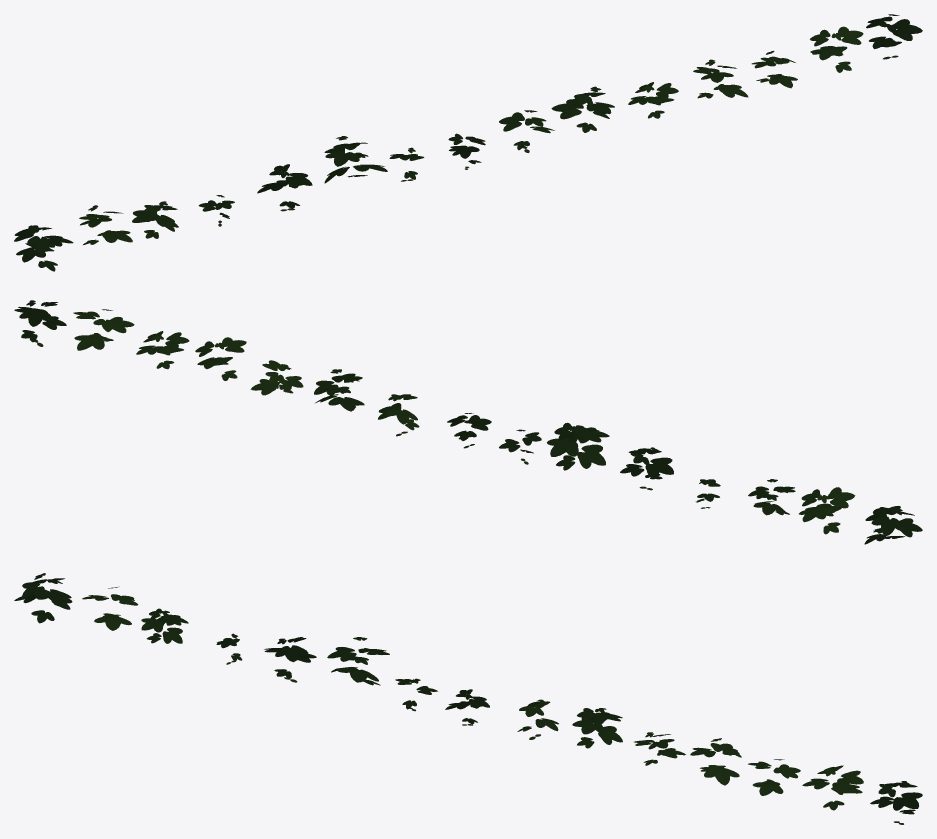
File: ROW_01_SEG4_foliage.dae
The picture shows the model from 3 angles, top to bottom: view 1: azimuth 30°, elevation 25°; view 2: azimuth 150°, elevation 25°; view 3: azimuth 330°, elevation 25°; orthographic projection.
Parts seen in each view (by area): view 1: ROW_01_SEG4_foliage; view 2: ROW_01_SEG4_foliage; view 3: ROW_01_SEG4_foliage.
Part boxes in pixels (x1,y1,x2,y2): ROW_01_SEG4_foliage: (14,14,922,271); ROW_01_SEG4_foliage: (14,300,922,544); ROW_01_SEG4_foliage: (14,573,922,824).
Bounding box in the file's own units: 4.51 × 0.3385 × 0.2588.
